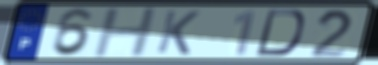1: (232, 9, 258, 56)
2: (307, 8, 358, 58)
6: (49, 7, 96, 58)
D: (253, 8, 307, 58)
H: (90, 6, 160, 59)
K: (153, 8, 203, 56)
